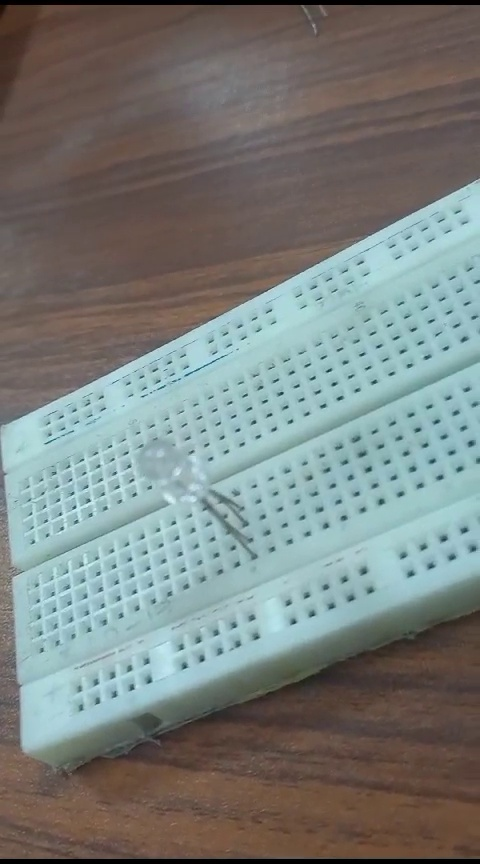LED: (122, 439, 262, 555)
